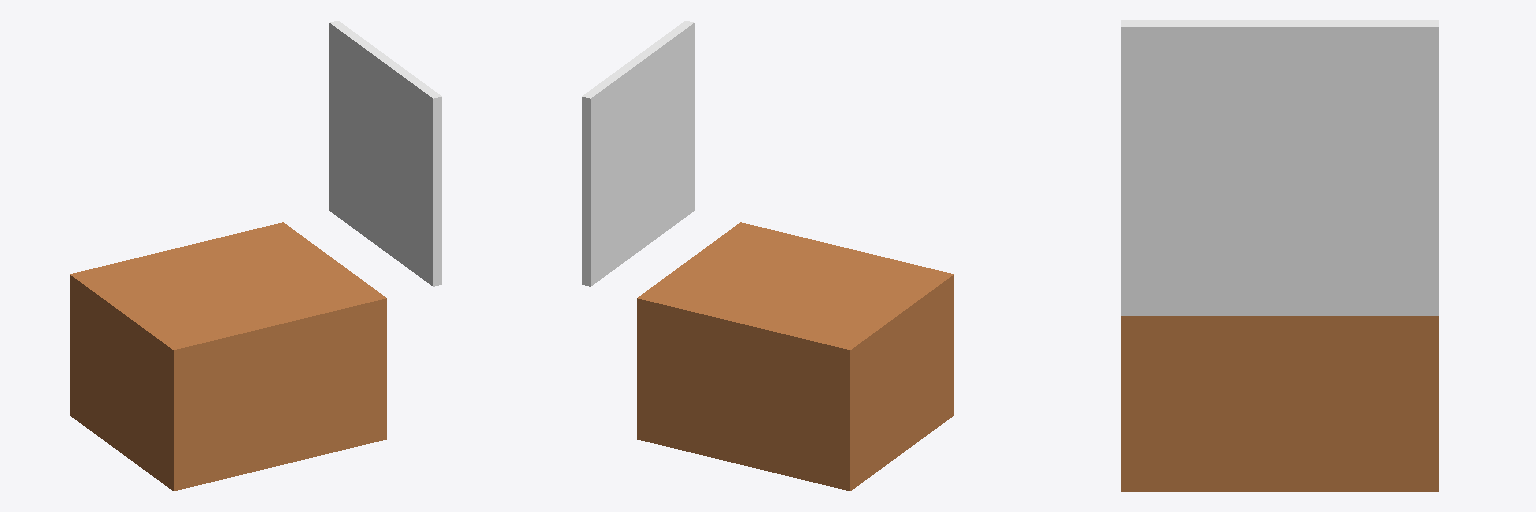
The robot description file, URDF, robot "table_flat_eraser_wipe_smile":
<?xml version="1.0"?>
<robot name="table_flat_eraser_wipe_smile">
  <link name="box">
    <visual>
      <material name="wood">
        <color rgba="0.82 0.56 0.35 1.0"/>
      </material>
      <origin xyz="0 0 0"/>
      <geometry>
        <box size="0.475 0.4 0.3"/>
      </geometry>
    </visual>
    <collision>
      <origin xyz="0 0 0"/>
      <geometry>
        <box size="0.475 0.4 0.3"/>
      </geometry>
    </collision>
    <!-- Whiteboard -->
    <visual>
      <material name="whiteboard">
        <color rgba="1.0 1.0 1.0 1.0"/>
      </material>
      <origin xyz="0.35 0.0 0.35"/>
      <geometry>
        <box size="0.02 0.4 0.4"/>
      </geometry>
    </visual>
    <collision>
      <origin xyz="0.35 0.0 0.35"/>
      <geometry>
        <box size="0.02 0.4 0.4"/>
      </geometry>
    </collision>
    <inertial>
      <mass value="500"/>
      <friction value="1.0"/>
      <inertia ixx="1000.0" ixy="0.0" ixz="0.0" iyy="1000.0" iyz="0.0" izz="1000.0"/>
    </inertial>
  </link>
</robot>

--- What the picture shows (computed from the rendered views, not written in the file) ---
3 views of the same robot in one strip: view 1: azimuth 30°, elevation 25°; view 2: azimuth 150°, elevation 25°; view 3: azimuth 270°, elevation 25° (orthographic).
Robot: table_flat_eraser_wipe_smile — 1 links, 0 joints (none); root link box; default pose: all joints at 0.
Visible links, largest first — view 1: box; view 2: box; view 3: box.
Boxes of the visible links, box(x1,y1,x2,y2) form: box: box(70, 21, 441, 490); box: box(582, 21, 953, 490); box: box(1121, 20, 1438, 491).
Bounding box of the posed robot: 0.5975 × 0.4 × 0.7 m (x, y, z).
Geometry: primitives only (box / cylinder / sphere), no mesh files.
